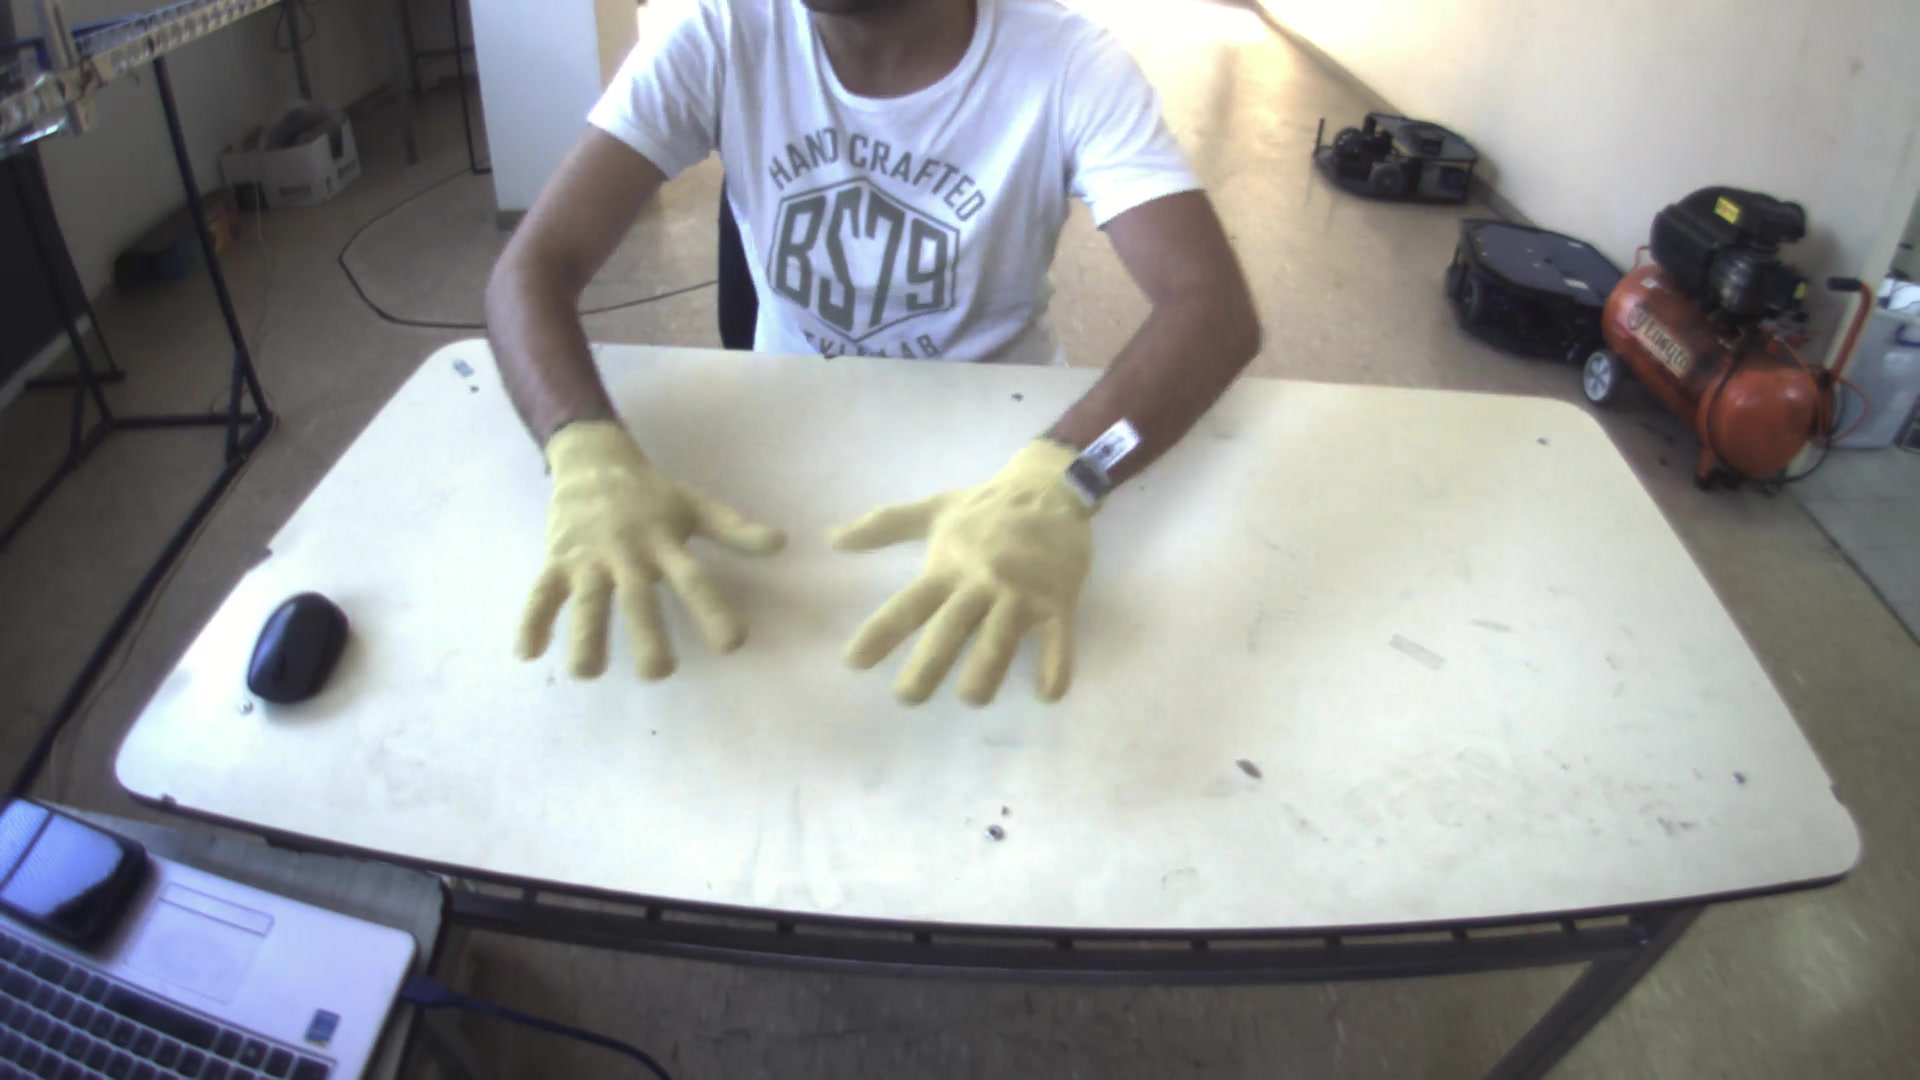hand: (819, 434, 1127, 711), (495, 407, 789, 688)
